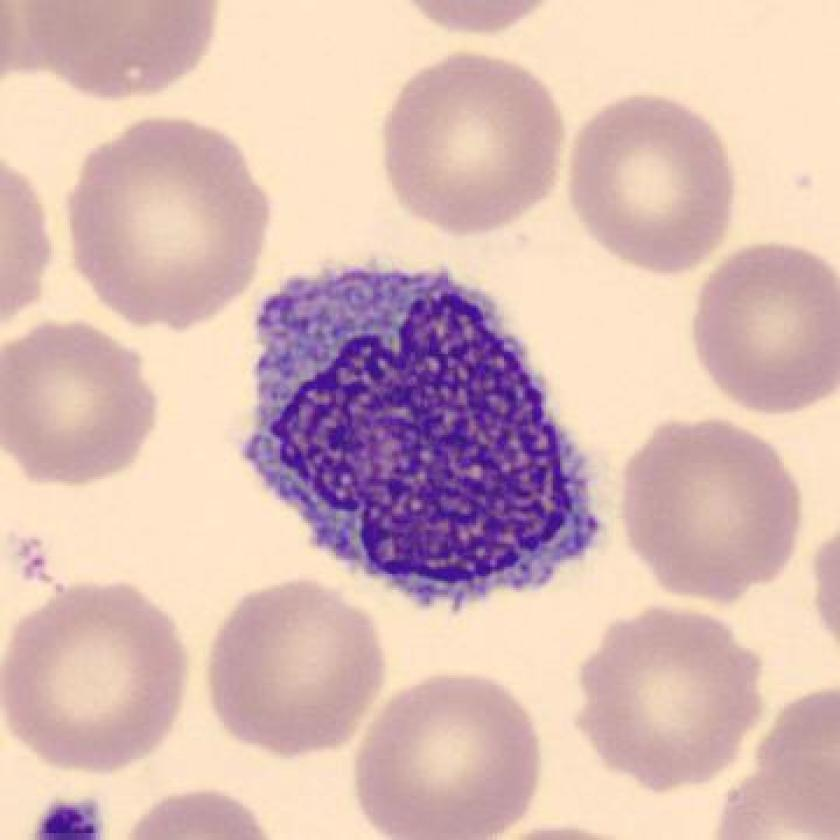monocyte: (209, 240, 633, 631)
